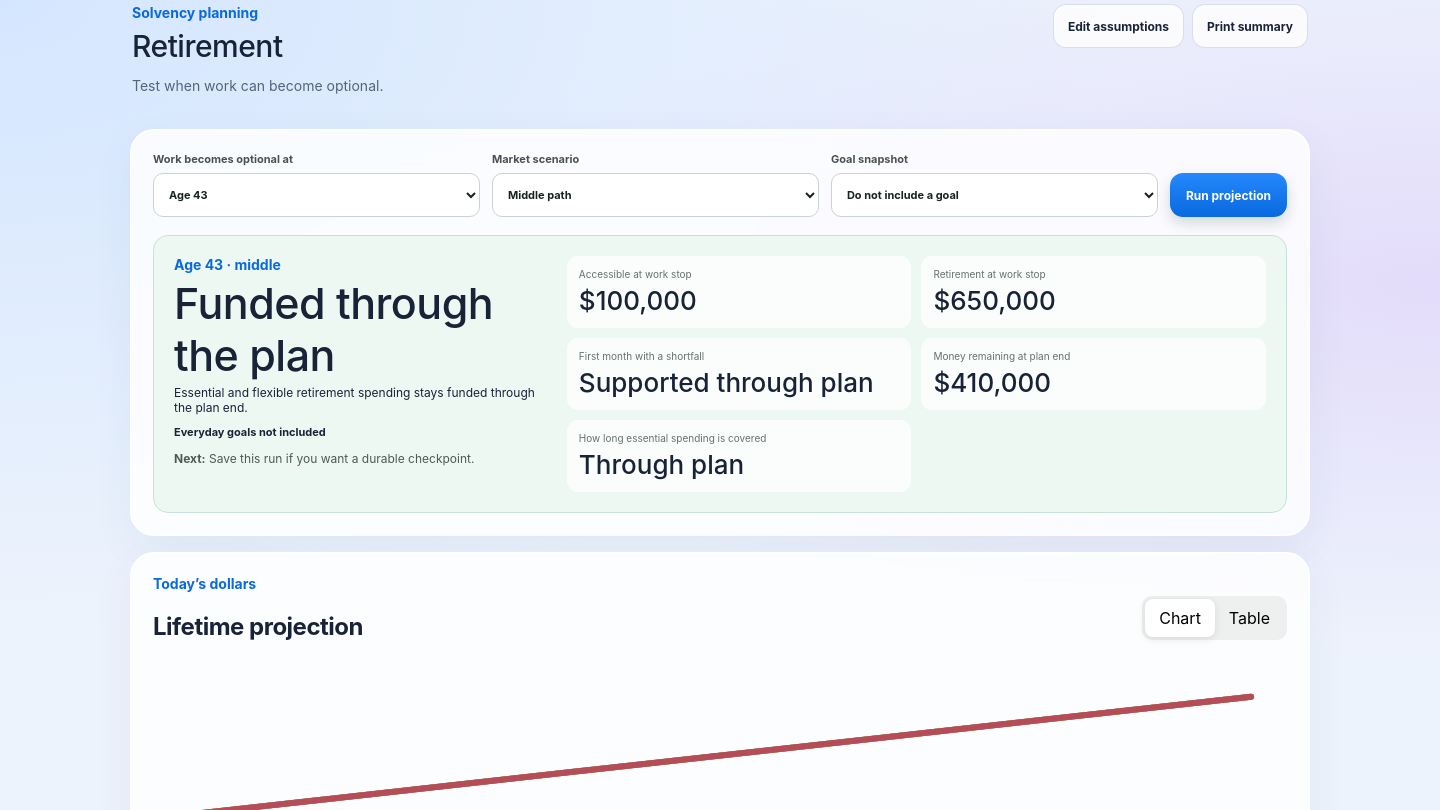
Scenario: Retirement › shows the Early-crash path bridge verdict
expect the heading "Funded through the plan" is shown: met, box [174,277,547,381]
Select "Early-crash path" in the dropdown named "Retirement path": coordinates (656, 195) [492,173,819,217]
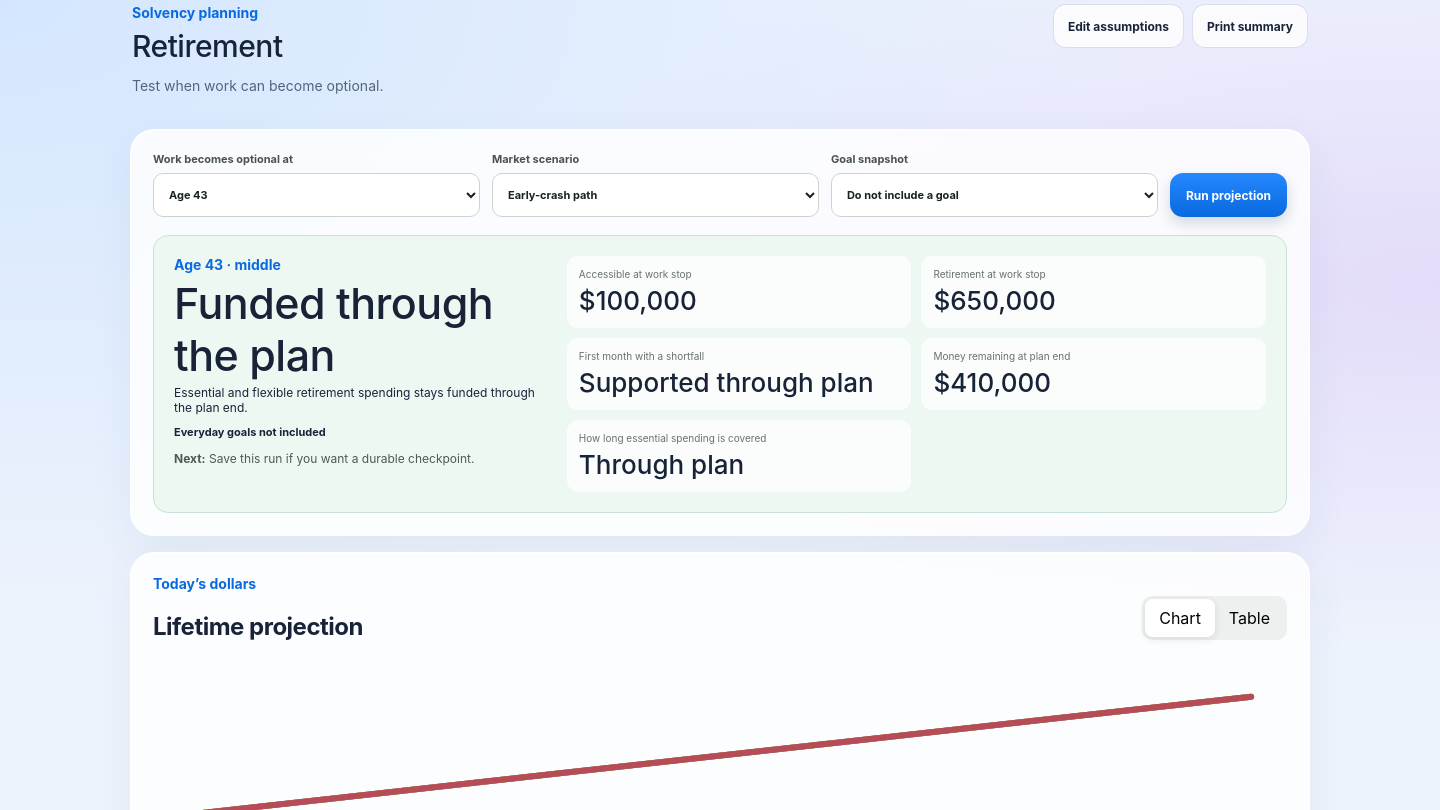
Click the button "Run projection": coordinates (1228, 195) [1170,173,1287,217]
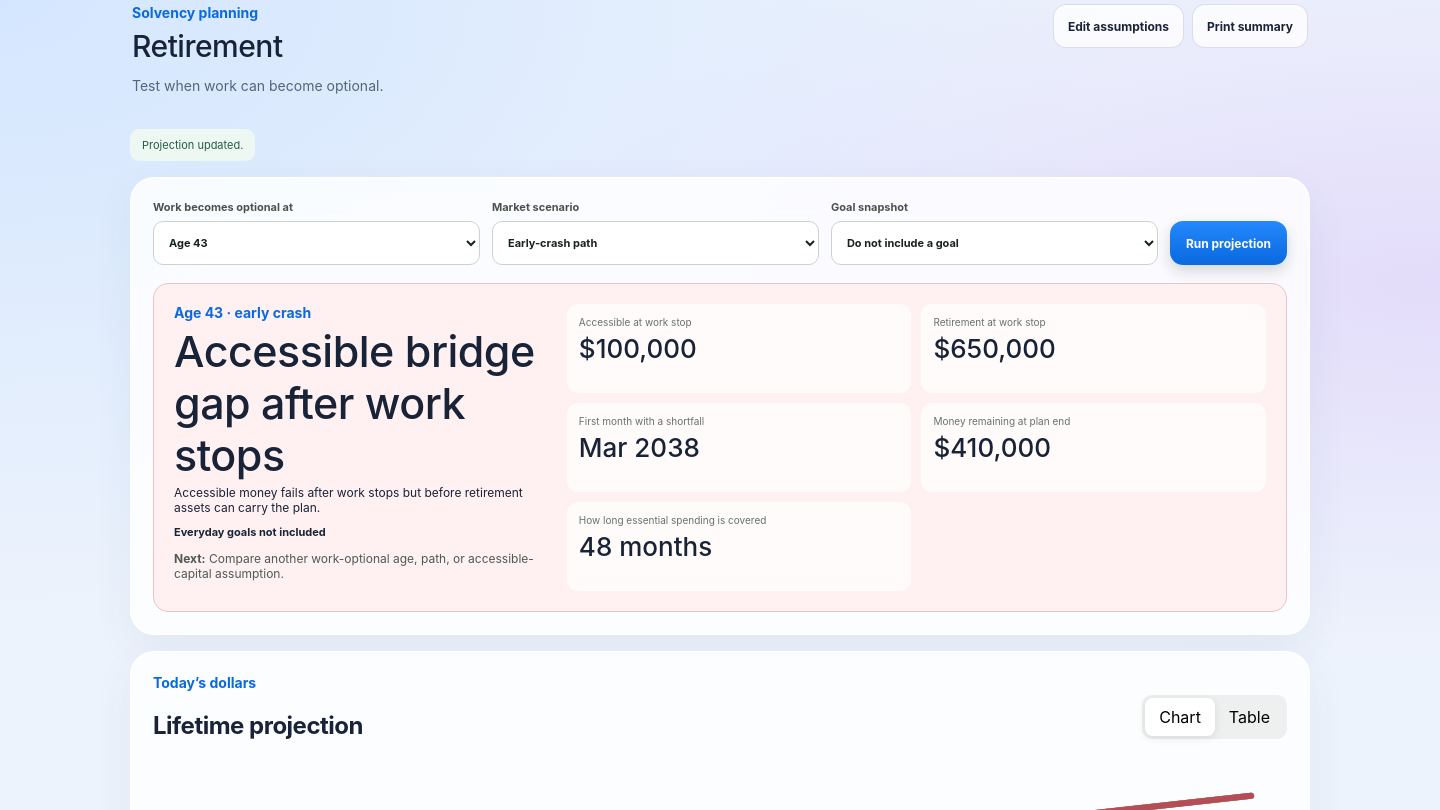
expect the heading "Accessible bridge gap after work stops" is shown: met, box [174,325,547,481]
